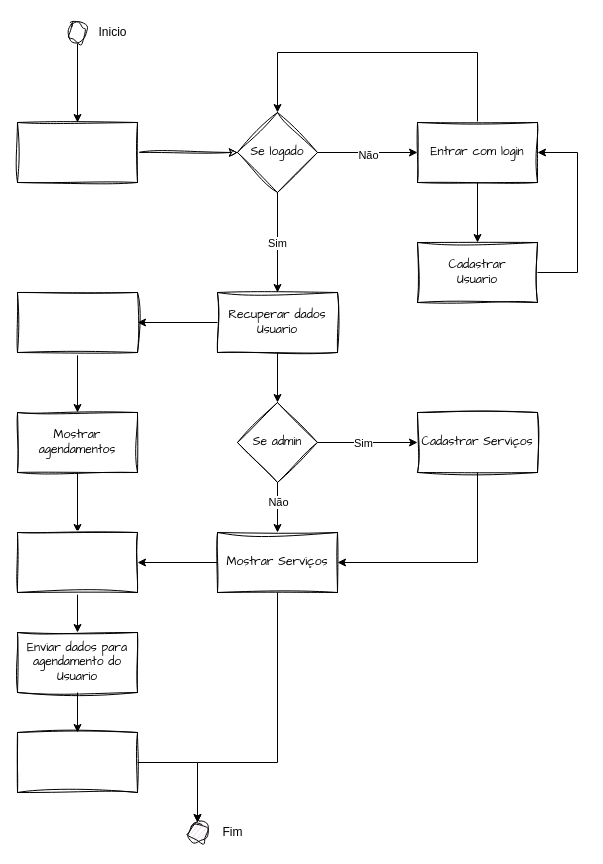
This 603x864 diagram has some shape labels left out. Each missing label, with the box of its shape:
Mostrar resultados do agendamento: (16, 732, 138, 792)
Recuperar agendamentos: (16, 292, 138, 352)
Selecionar Serviços: (16, 532, 138, 592)
Validar dados o Usuario: (16, 122, 138, 182)
